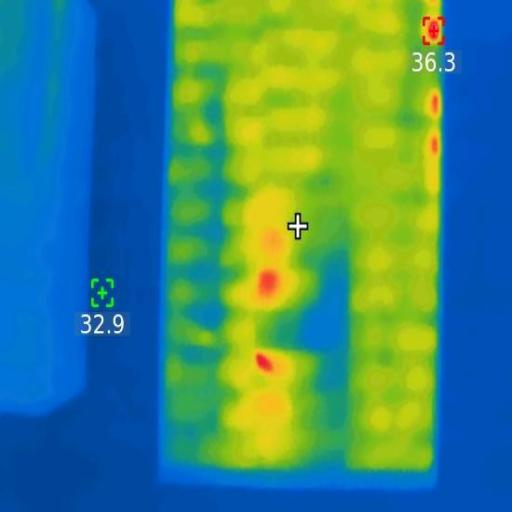hotspot: (426, 18, 445, 46), (253, 351, 274, 375), (258, 275, 275, 297)
